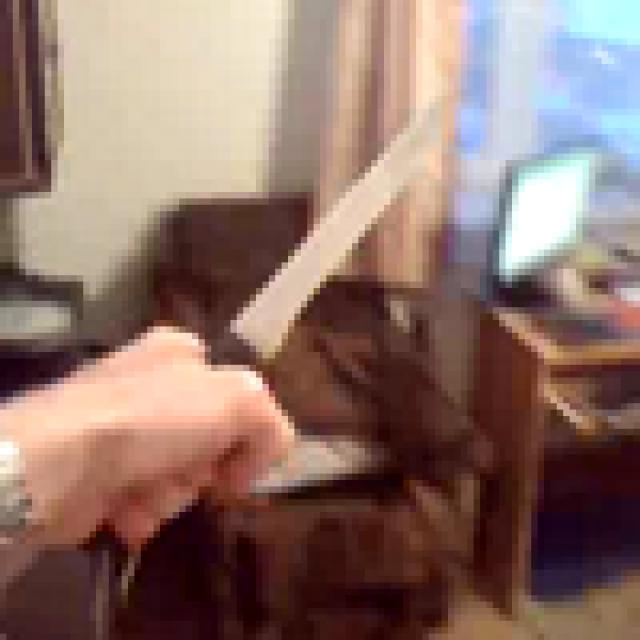Weapons: (192, 63, 474, 422)
